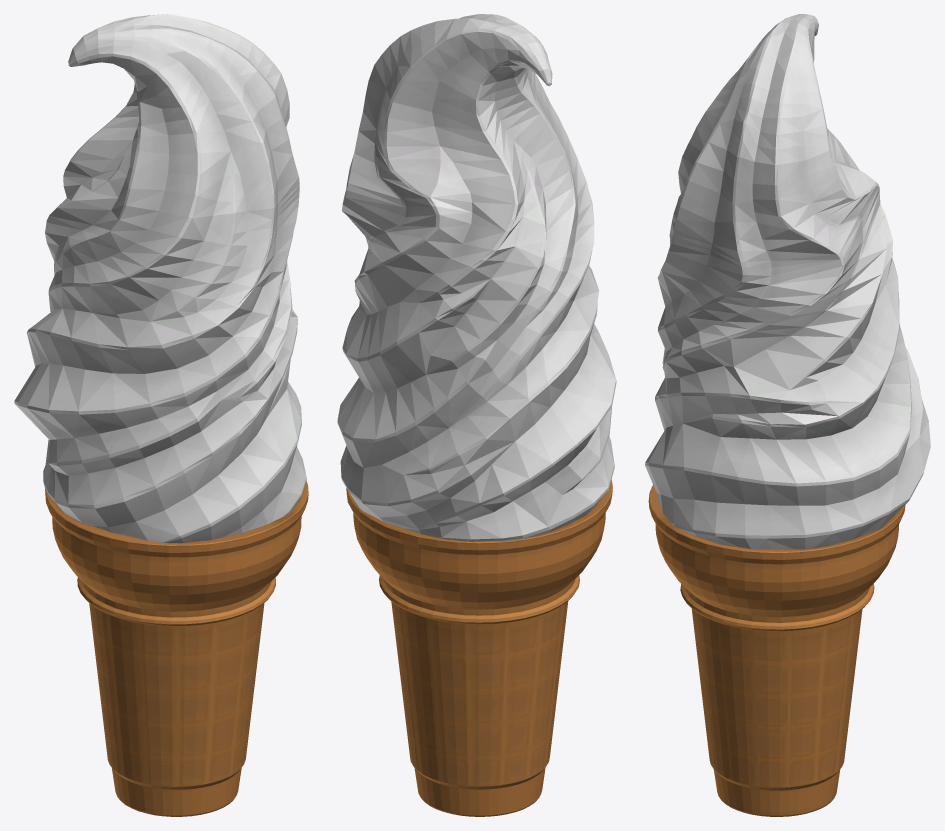
File: ice cream.glb
3 renders of one model, left to right at view 1: azimuth 30°, elevation 25°; view 2: azimuth 150°, elevation 25°; view 3: azimuth 270°, elevation 25°, orthographic. The views are drawn at different scales.
Visible parts, largest first — view 1: node_id86; view 2: node_id86; view 3: node_id86.
Boxes of the visible parts, x1,y1,x2,y2 form: node_id86: [14, 14, 308, 816]; node_id86: [337, 14, 616, 816]; node_id86: [645, 14, 930, 816].
Bounding box in the file's own units: 0.1732 × 0.512 × 0.1759.
1 material, 1 textured.
